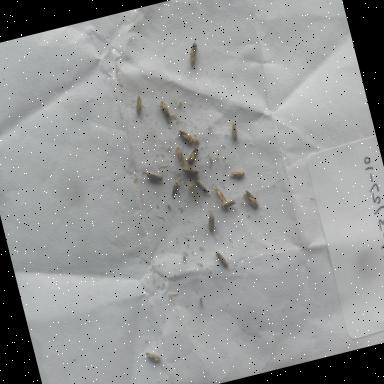pbw: (182, 34, 206, 70), (210, 184, 230, 216), (141, 162, 165, 188), (174, 124, 198, 150), (239, 186, 260, 213), (202, 208, 222, 235), (128, 87, 146, 117), (158, 98, 176, 126), (228, 162, 253, 181), (212, 246, 230, 272), (166, 176, 184, 202), (185, 142, 204, 166), (177, 161, 202, 179), (142, 346, 162, 366), (193, 174, 211, 196), (185, 178, 201, 202), (218, 195, 239, 213), (226, 122, 240, 146), (174, 142, 188, 166)
